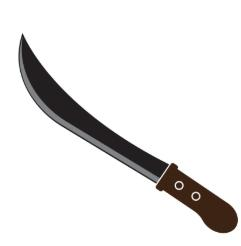MACHETTE: (12, 24, 241, 246)
